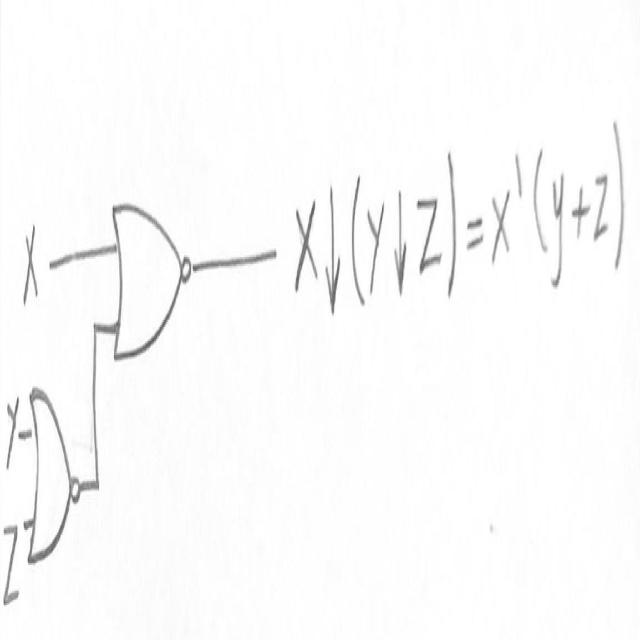NOR: (105, 186, 201, 374), (23, 373, 88, 575)
